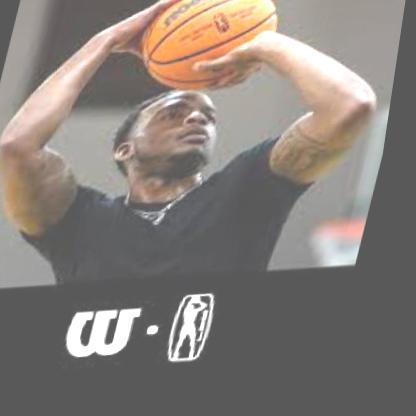basketball: (133, 0, 294, 113)
